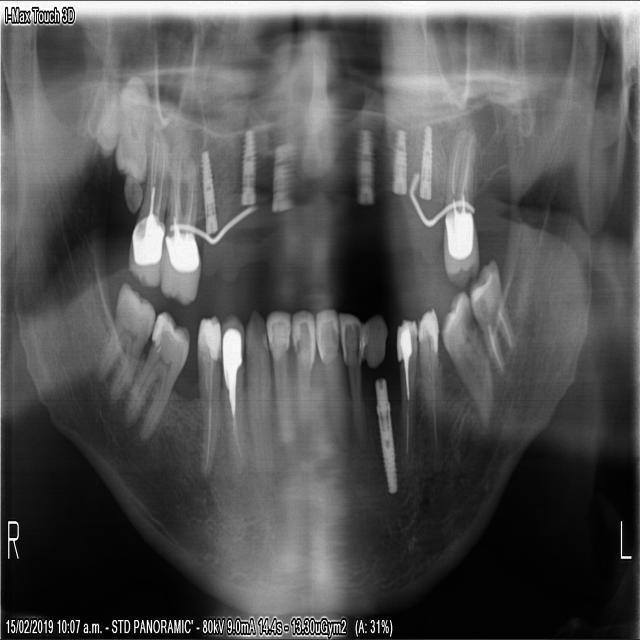LID: (315, 304, 348, 451), (340, 309, 369, 451)
LMD: (440, 281, 492, 436), (468, 256, 518, 384)
LMU: (439, 107, 484, 290)
LPMD: (417, 290, 448, 481), (393, 307, 417, 471)
RCD: (243, 301, 275, 478)
RID: (264, 304, 292, 451), (289, 304, 315, 436)
RMD: (116, 304, 191, 450), (87, 275, 159, 409)
RMU: (86, 62, 158, 221), (159, 121, 201, 314), (125, 120, 170, 295)
RPMD: (219, 312, 250, 486), (193, 309, 221, 479)
